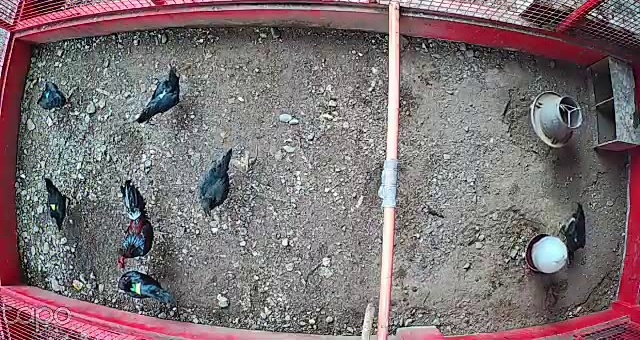Chicken: (197, 146, 241, 221), (134, 67, 189, 125), (115, 265, 178, 304), (555, 201, 590, 268), (41, 175, 73, 235), (37, 79, 72, 112)
Rooster: (116, 181, 168, 269)
Saddle_Color_Blue: (45, 92, 51, 98)
Saddle_Color_Yellow: (50, 203, 58, 211)
Saddle_Color_YellowGreen: (129, 280, 141, 294)
